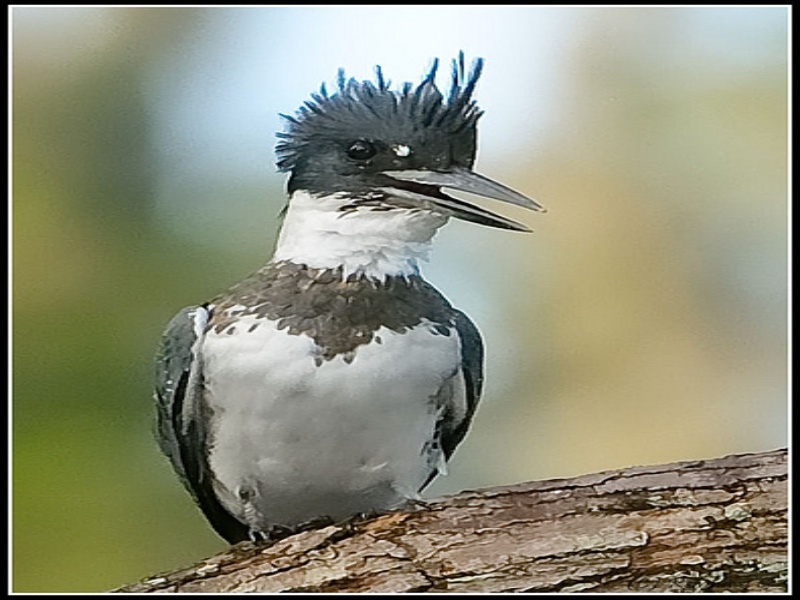kingfisher: (152, 54, 553, 558)
